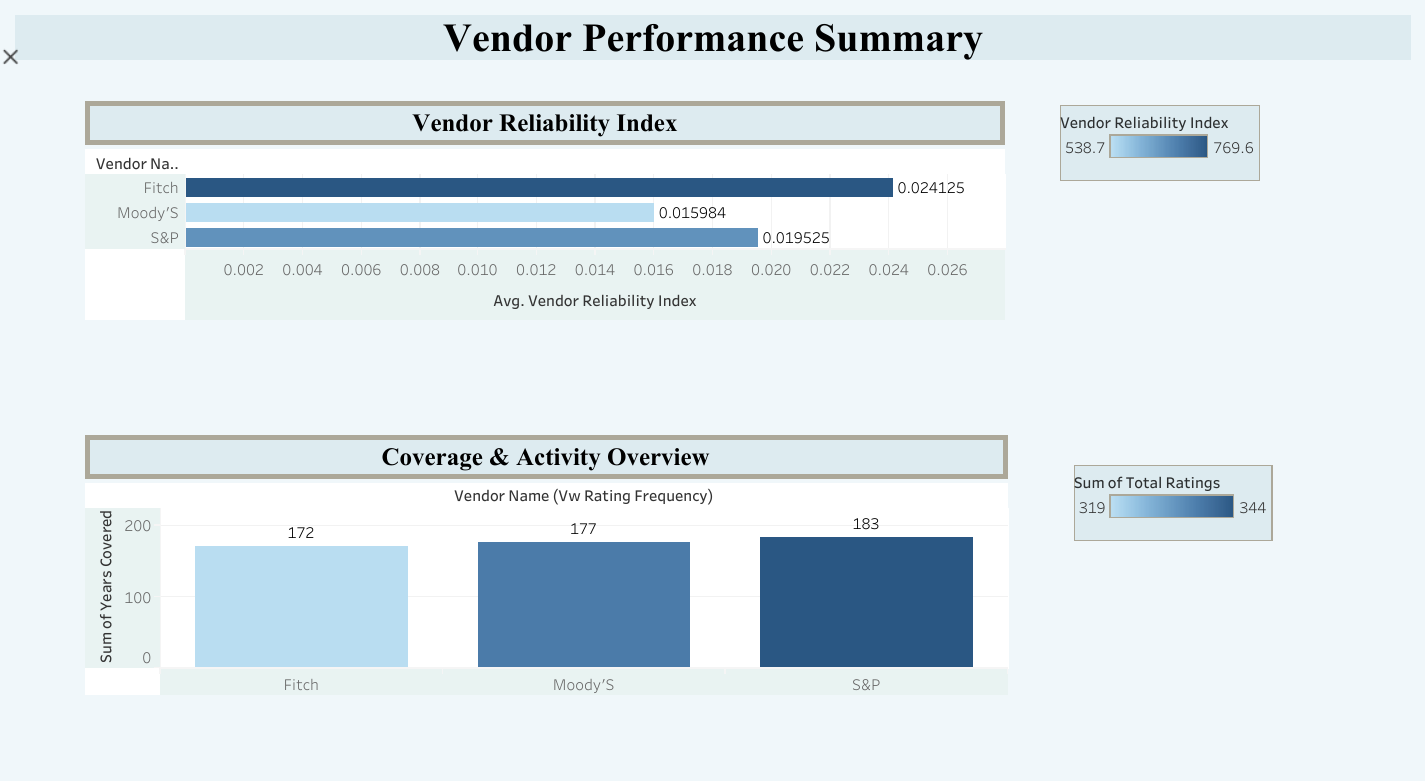

The dashboard page shown, as its layout file describes it:
{"tool":"tableau","page":{"name":"Vendor Performance Summary","canvas":[1000,1000],"units":"permille","ordinal":2},"visuals":[{"type":"title","box":[4.8,9.4,990.3,62.3]},{"type":"dashboard-object","box":[0,58.8,14.5,28.2]},{"type":"worksheet","title":"Sheet 7","mark":"Automatic","rows":["vendor_name (vw_rating_frequency)"],"cols":["Calculation_1098878313687146512"],"box":[59.8,129.3,644.5,332.6]},{"type":"legend","title":"Sheet 7","param":"[federated.1f2xbww1778x8z18adtso1bdj9c0].[sum:Calculation_1098878313687146512:qk","box":[743.5,134,140,110.5]},{"type":"worksheet","title":"Sheet 8","mark":"Automatic","rows":["years_covered"],"cols":["vendor_name (vw_rating_frequency)"],"box":[59.8,555.8,646.4,332.6]},{"type":"legend","title":"Sheet 8","param":"[federated.1f2xbww1778x8z18adtso1bdj9c0].[sum:total_ratings:qk]","box":[752.6,594.6,140,110.5]}]}

Visuals, with their boxes on the dashboard's canvas, which has no fixed pixel size, in thousandths of its width and height (x1, y1, x2, y2). These are canvas units, not pixel positions in the 1425x781 screenshot, which may show the page scaled, cropped or inside an application window:
title: [x1=5, y1=9, x2=995, y2=72]
dashboard-object: [x1=0, y1=59, x2=14, y2=87]
"Sheet 7" worksheet: [x1=60, y1=129, x2=704, y2=462]
"Sheet 7" legend: [x1=744, y1=134, x2=884, y2=244]
"Sheet 8" worksheet: [x1=60, y1=556, x2=706, y2=888]
"Sheet 8" legend: [x1=753, y1=595, x2=893, y2=705]
